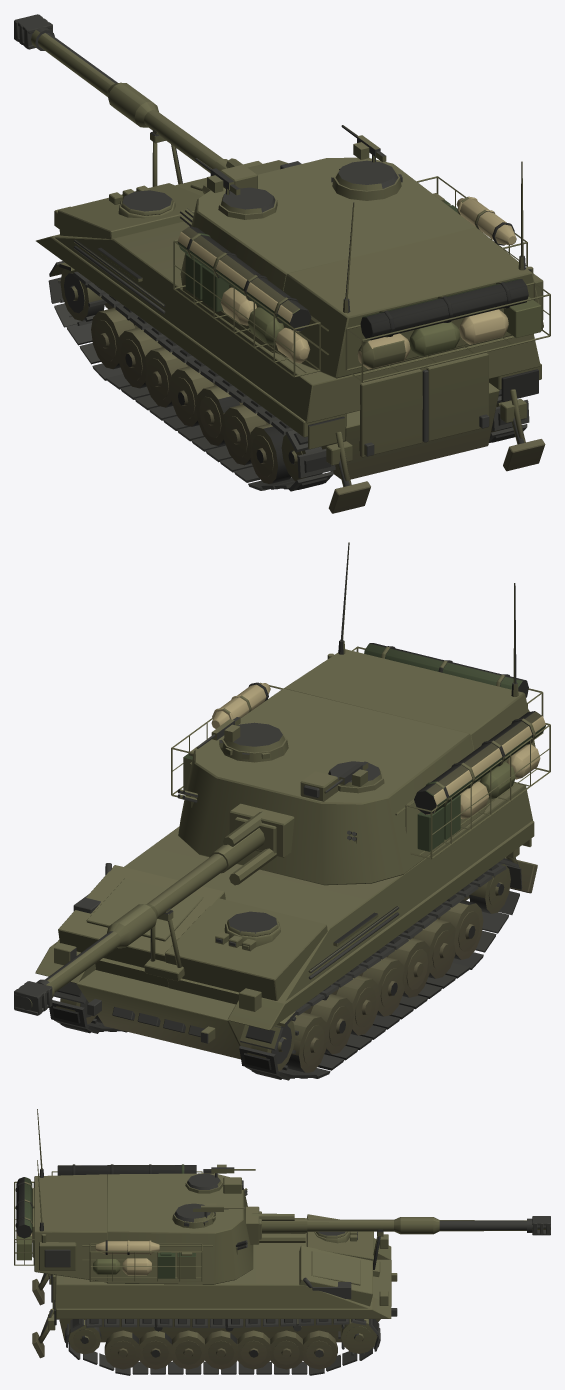
File: doher.glb
3 views of the same model, one above another, from view 1: azimuth 30°, elevation 25°; view 2: azimuth 150°, elevation 25°; view 3: azimuth 270°, elevation 25° (orthographic). The views are drawn at different scales.
Visible parts, largest first — view 1: hull, turret, tracks, stowage, barrel, details; view 2: turret, hull, tracks, stowage, barrel, details; view 3: hull, turret, tracks, stowage, barrel, details.
Part boxes in pixels (x1,y1,x2,y2): hull: (36, 130, 545, 513); turret: (180, 125, 543, 378); tracks: (48, 261, 529, 491); stowage: (173, 176, 550, 382); barrel: (14, 14, 257, 194); details: (54, 161, 538, 456); turret: (177, 542, 535, 885); hull: (35, 783, 537, 1059); tracks: (49, 858, 522, 1080); stowage: (171, 643, 550, 859); barrel: (14, 811, 276, 1015); details: (54, 838, 531, 1043); hull: (32, 1214, 391, 1358); turret: (32, 1109, 261, 1284); tracks: (65, 1319, 380, 1375); stowage: (14, 1164, 212, 1281); barrel: (251, 1213, 550, 1242); details: (49, 1234, 397, 1325).
Bounding box in the file's own units: 3.52 × 4.19 × 9.85.
